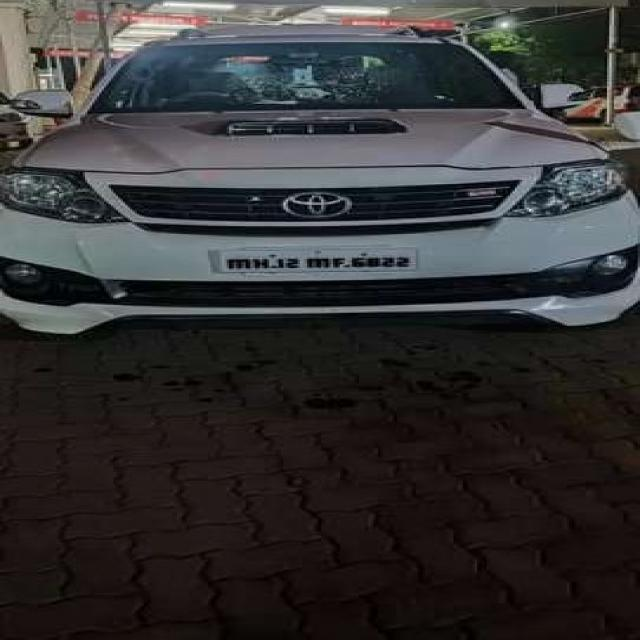Plate: (216, 249, 414, 272)
